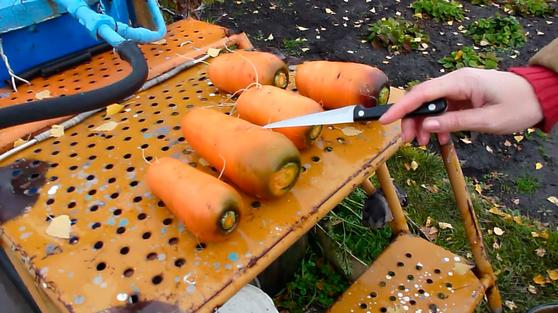carrot: (187, 104, 300, 195), (145, 159, 245, 238)
